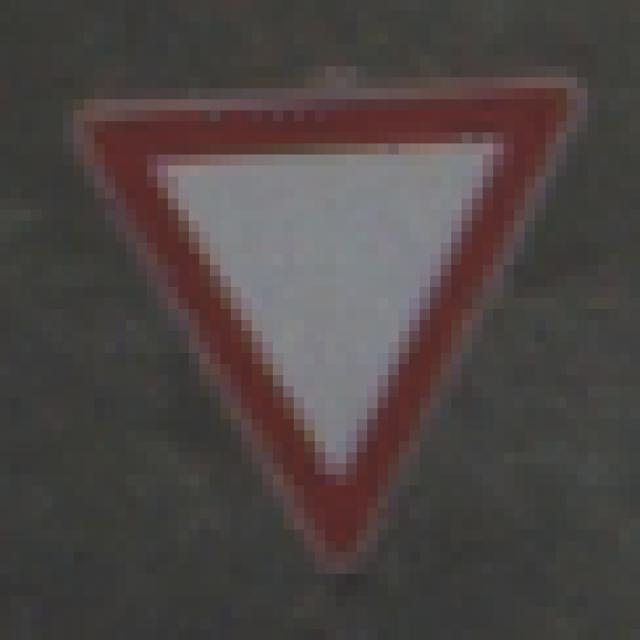Give Way: (54, 56, 589, 586)
